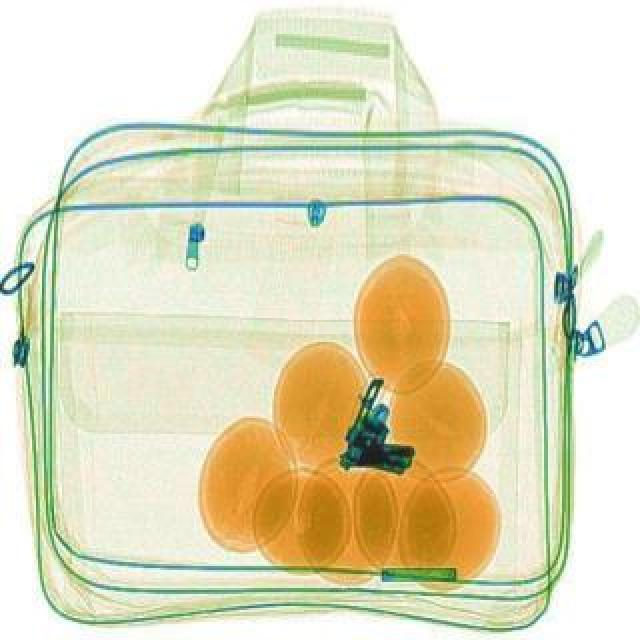gun: (332, 372, 440, 486), (342, 402, 430, 480)
